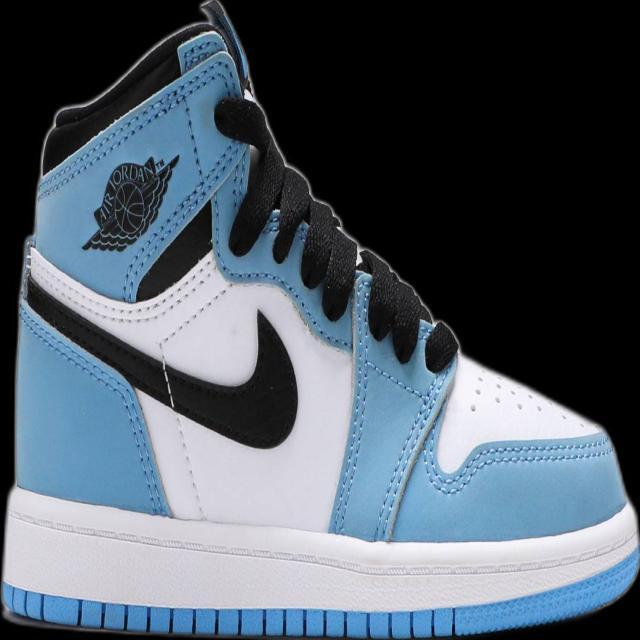J1_InsoleChar: (0, 0, 637, 638)
J1_ShoeLogo: (80, 152, 180, 253)
J1_StitchPattern: (36, 32, 458, 374), (212, 90, 455, 370), (19, 245, 300, 449), (327, 246, 460, 541), (34, 47, 234, 201), (1, 582, 457, 638), (371, 360, 455, 542), (425, 432, 615, 496), (355, 245, 431, 363), (464, 365, 592, 431), (298, 195, 359, 320), (422, 318, 459, 374)
